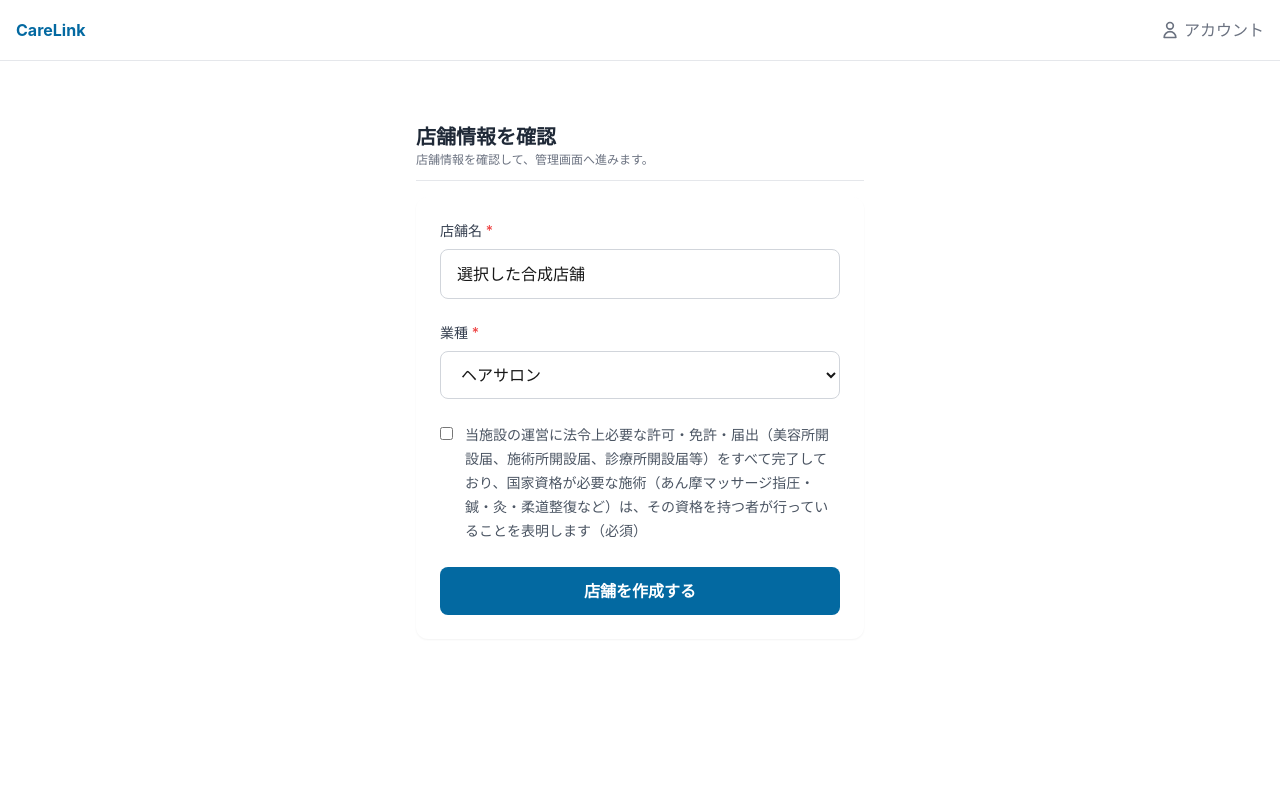
selected registration handoff › login expiring before the create POST shows a login button back to the same handoff, not 認証が必要です
Expected: the field labelled "店舗名 *" is shown, [440,249,840,299]
Click the checkbox.
click(446, 434)  # box [440,427,453,440]
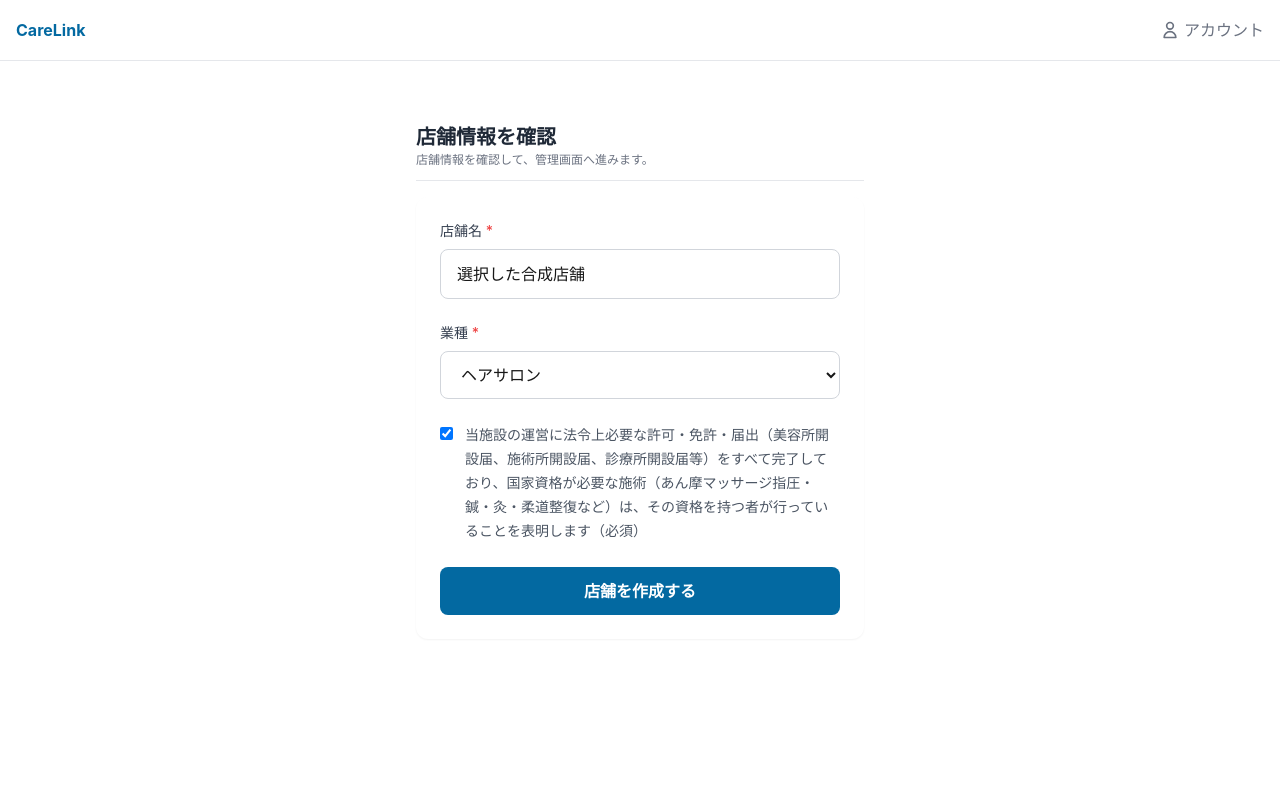
Click the button "店舗を作成する".
click(640, 591)  # box [440,567,840,615]
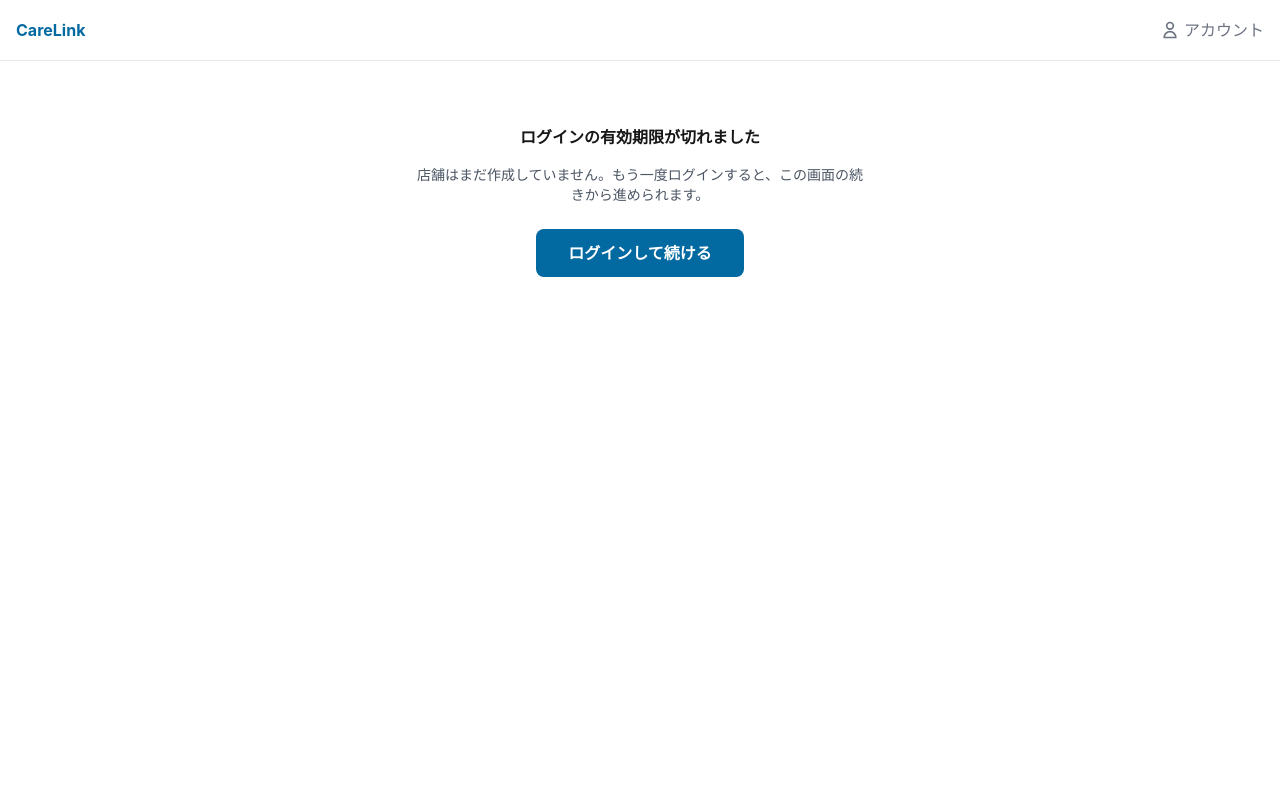
Now the text "ログインの有効期限が切れました" is shown, box [520,127,760,147]
